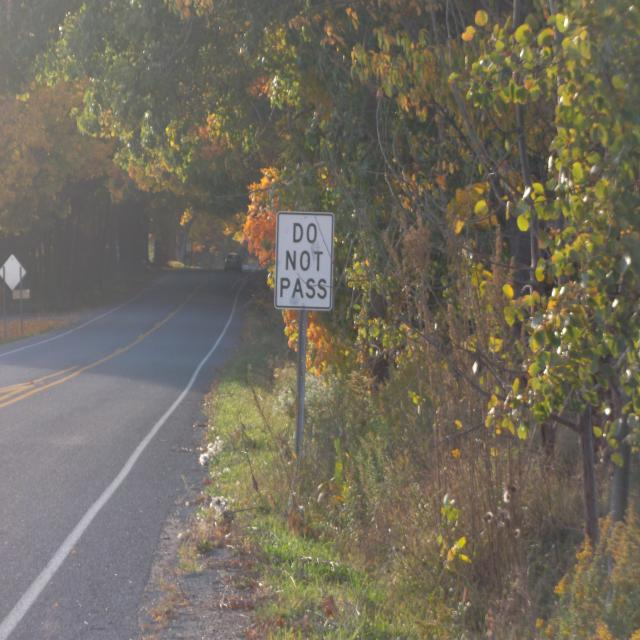regulatory: (273, 208, 335, 312)
